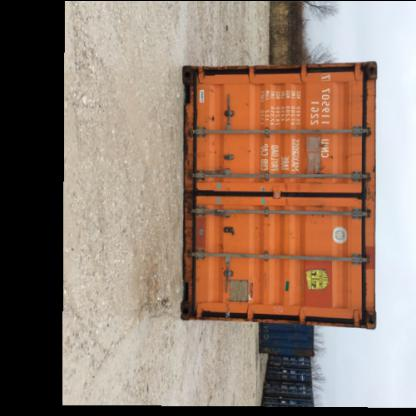Damage: (313, 130, 339, 186), (226, 272, 262, 304), (187, 206, 209, 254), (183, 68, 205, 110), (216, 220, 244, 239), (362, 61, 378, 88), (308, 203, 336, 217), (364, 308, 378, 326), (209, 112, 226, 124)
